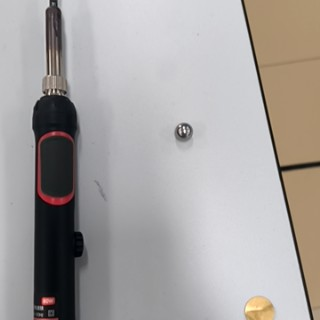ironball: (168, 116, 202, 149)
